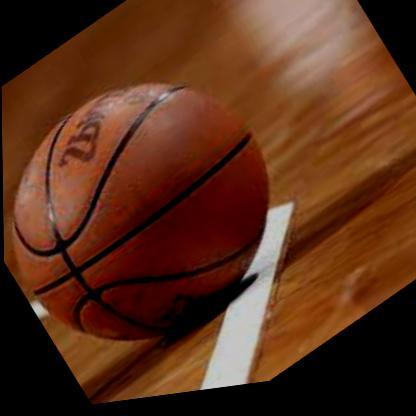basketball: (1, 22, 317, 403)
